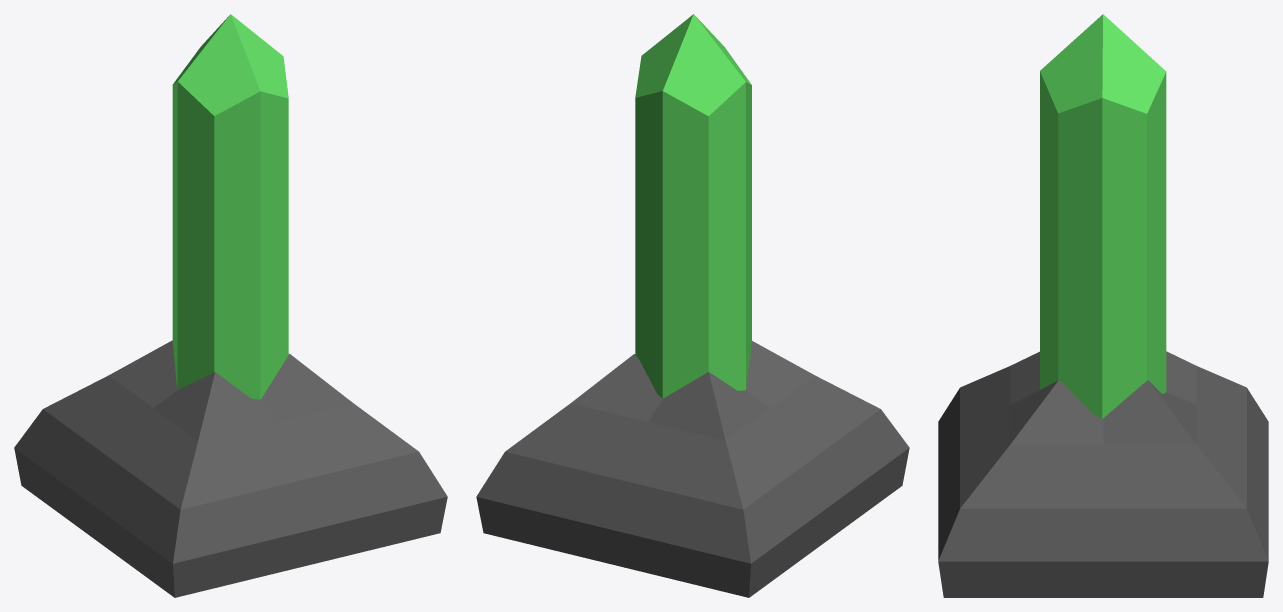
Rendered from Target02.fbx.
3 renders of one model, left to right at view 1: azimuth 30°, elevation 25°; view 2: azimuth 150°, elevation 25°; view 3: azimuth 270°, elevation 25°, orthographic. The views are drawn at different scales.
Parts seen in each view (by area): view 1: Cube.006; view 2: Cube.006; view 3: Cube.006.
Boxes of the visible parts, left/top/right/bottom form: Cube.006: left=14, top=14, right=447, bottom=597; Cube.006: left=476, top=14, right=909, bottom=597; Cube.006: left=938, top=14, right=1268, bottom=597.
Size of the model in its own units: 354 by 610 by 354.
